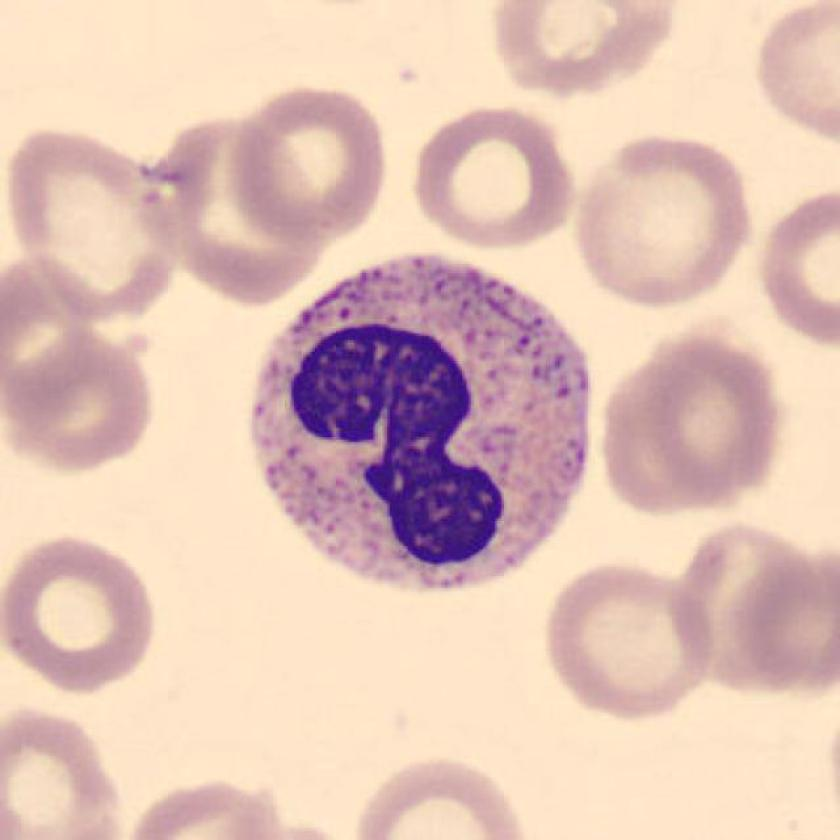neutrophil: (257, 257, 592, 593)
